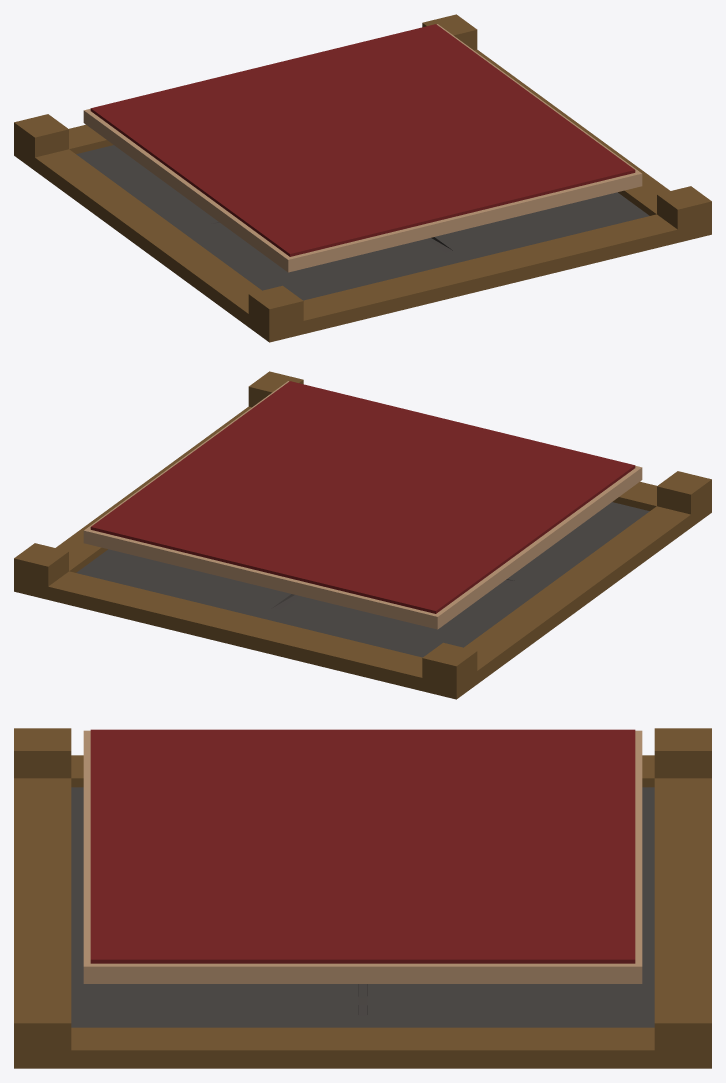
Rendered from GenericButton.fbx.
3 views of the same model, one above another, from view 1: azimuth 30°, elevation 25°; view 2: azimuth 150°, elevation 25°; view 3: azimuth 270°, elevation 25° (orthographic). The views are drawn at different scales.
Visible parts, largest first — view 1: Button, ButtonBase; view 2: Button, ButtonBase; view 3: Button, ButtonBase.
Part boxes in pixels (x1,y1,x2,y2): Button: (83, 24, 642, 272); ButtonBase: (14, 14, 711, 342); Button: (83, 381, 642, 629); ButtonBase: (14, 371, 711, 699); Button: (83, 729, 642, 983); ButtonBase: (14, 728, 711, 1068).
Size of what is drawn, in the model's own units: 20 by 2.44 by 20.
